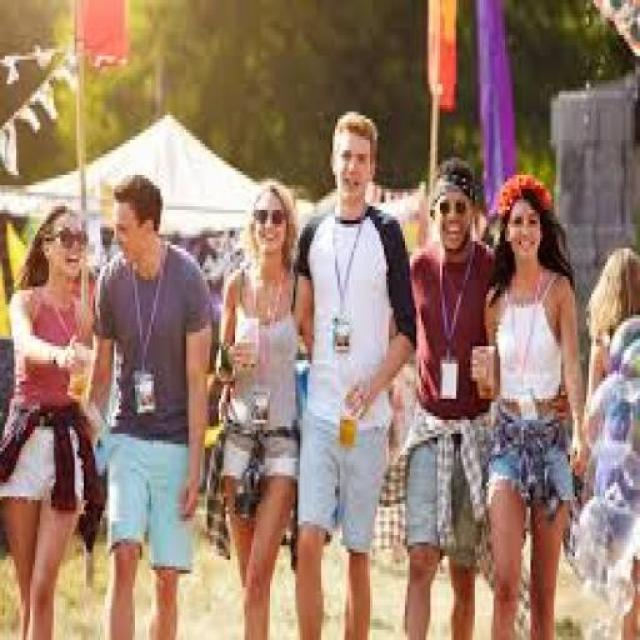id_card: (119, 258, 173, 417), (506, 273, 545, 432), (245, 266, 277, 429), (434, 259, 466, 403), (324, 223, 354, 357)
